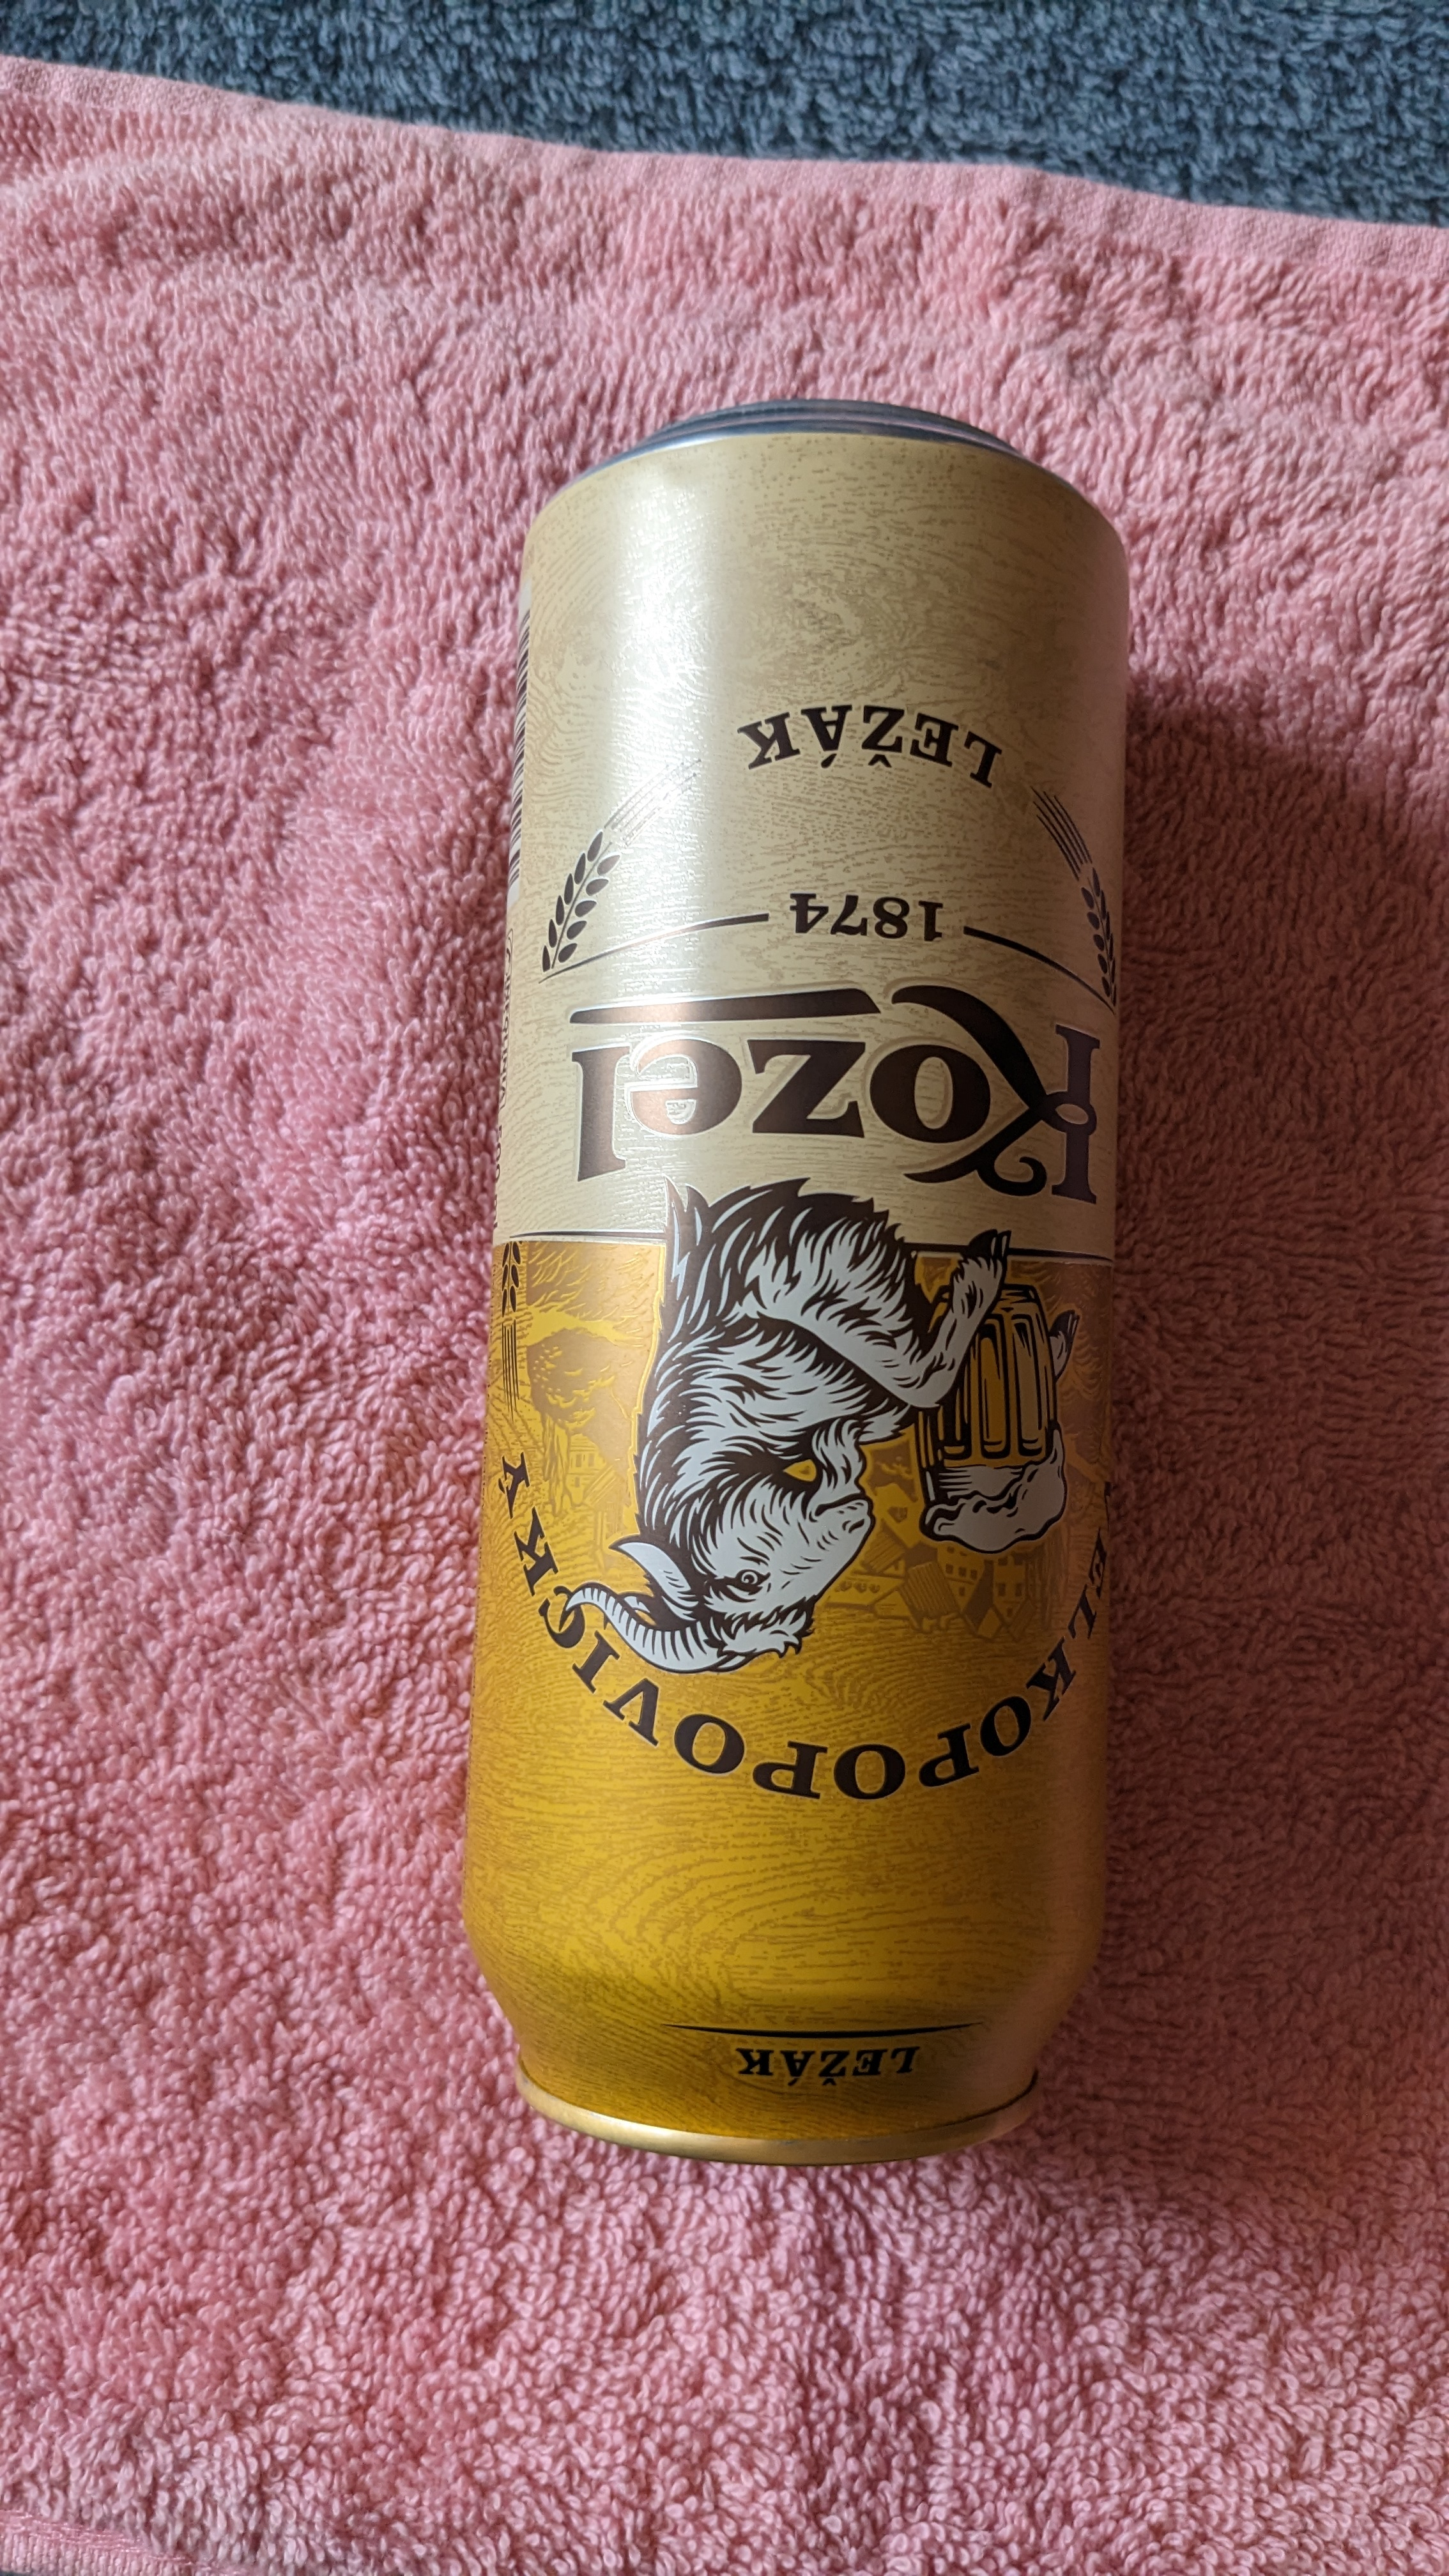kozel: (497, 405, 1104, 2215)
